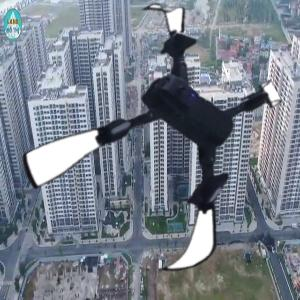drone: (26, 14, 288, 276)
